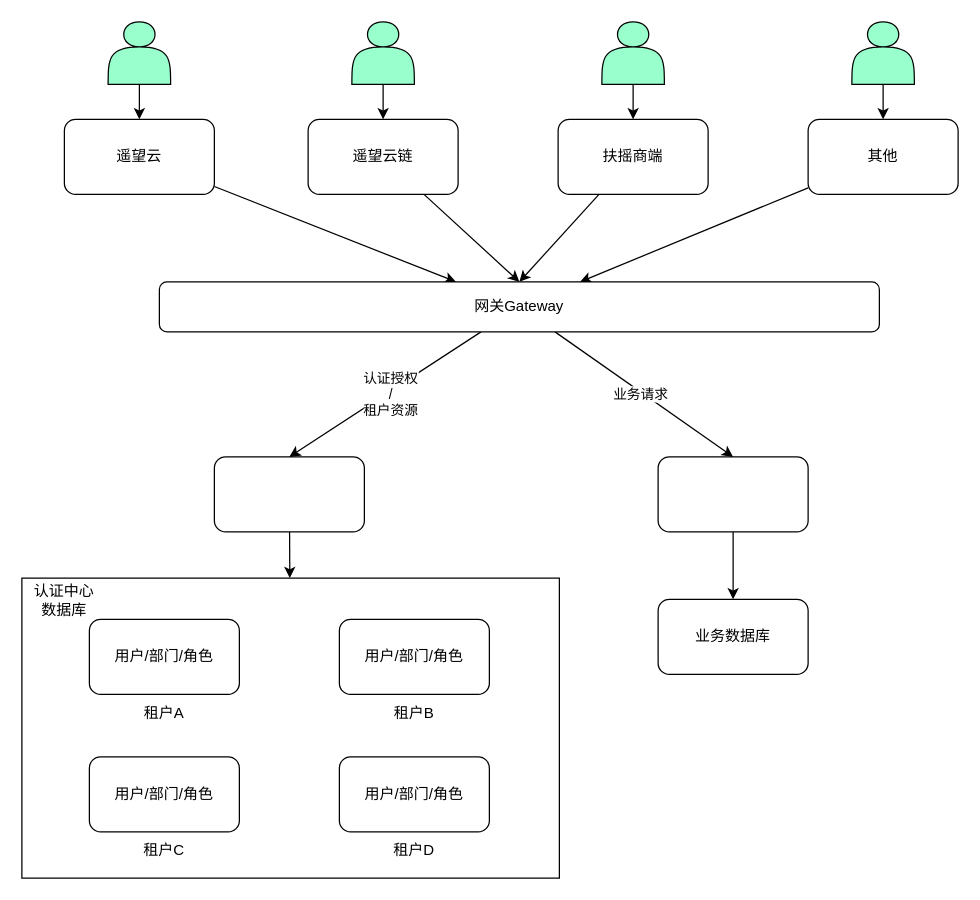
Some shapes in this 980 by 900 pixel diagram are drawn without their labels. Each missing label, with the centre of its shape:
业务服务: point 732,494
用户中心: point 288,494
